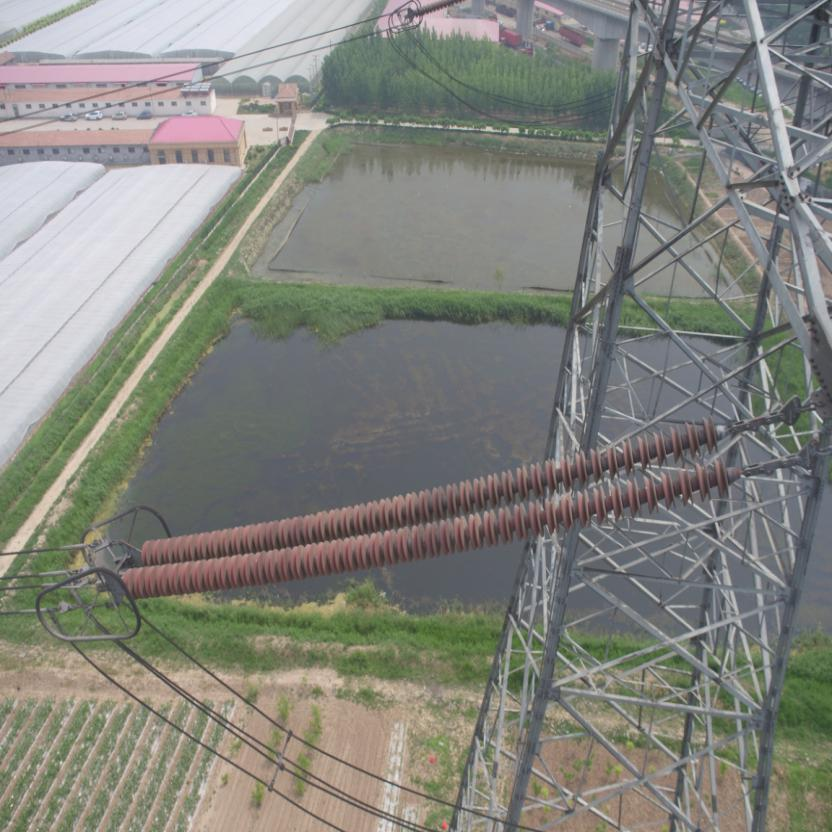insulator: (110, 410, 768, 606)
